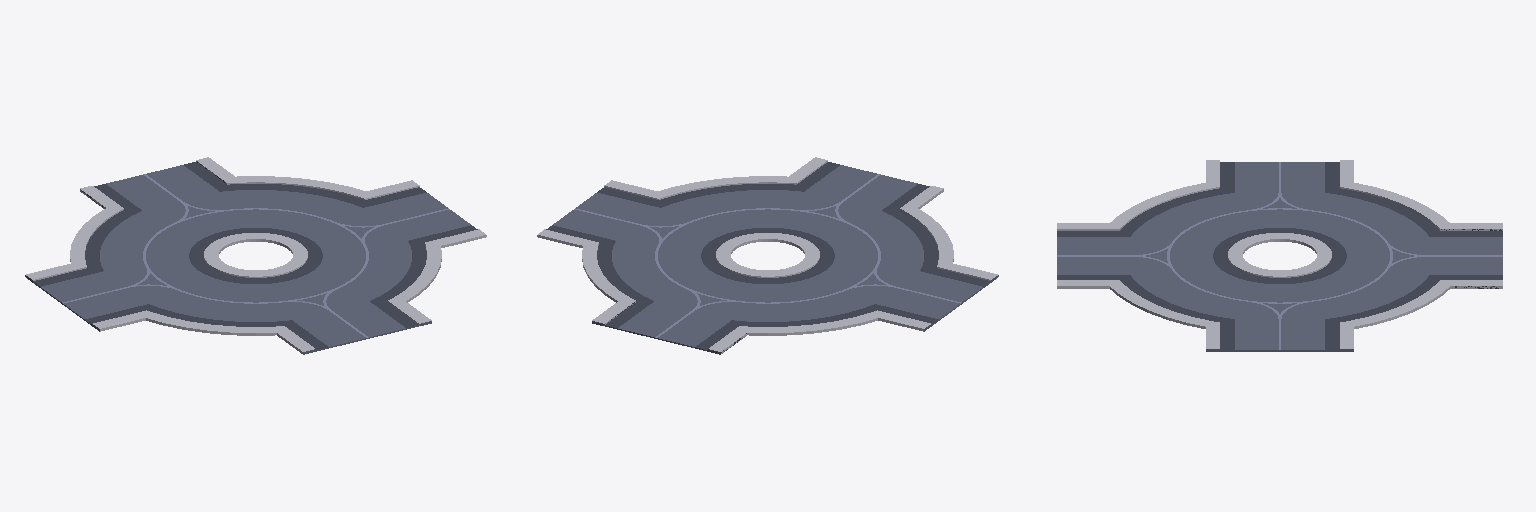
Rendered from road_roundabout.obj.
The picture shows the model from 3 angles: view 1: azimuth 30°, elevation 25°; view 2: azimuth 150°, elevation 25°; view 3: azimuth 270°, elevation 25°; orthographic projection.
Visible parts, largest first — view 1: road_roundabout; view 2: road_roundabout; view 3: road_roundabout.
Part boxes in pixels (x1,y1,x2,y2): road_roundabout: (25,157,486,354); road_roundabout: (537,157,998,354); road_roundabout: (1057,160,1502,351).
Size of the model in its own units: 3 by 0.02 by 3.